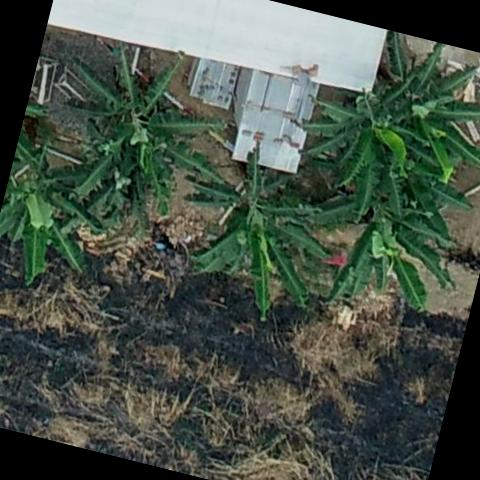Banana-plant: (26, 21, 253, 252), (155, 127, 359, 331), (282, 78, 452, 242), (319, 187, 470, 336), (346, 27, 480, 189), (0, 128, 124, 303)
